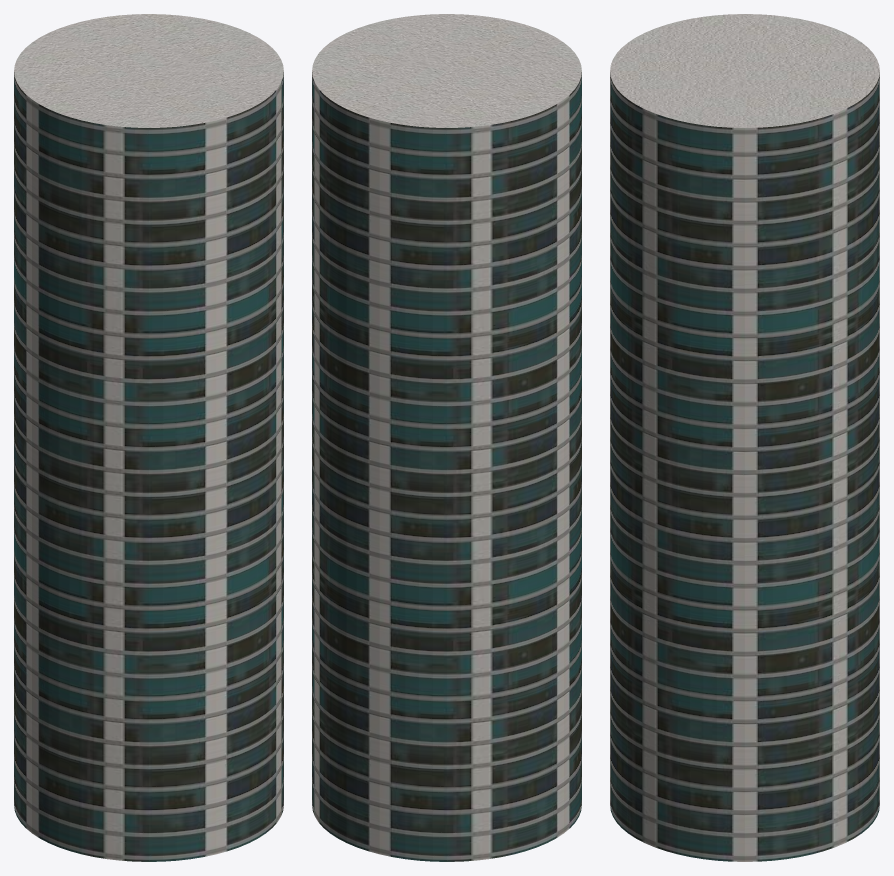
File: office_1.glb
The picture shows the model from 3 angles, left to right: view 1: azimuth 30°, elevation 25°; view 2: azimuth 150°, elevation 25°; view 3: azimuth 270°, elevation 25°; orthographic projection.
Visible parts, largest first — view 1: office_1; view 2: office_1; view 3: office_1.
Part boxes in pixels (bbox=[...]): office_1: bbox=[14, 14, 283, 861]; office_1: bbox=[312, 14, 581, 861]; office_1: bbox=[610, 14, 879, 861].
Size of the model in its own units: 1500 by 4500 by 1500.
2 materials, 2 textured.
